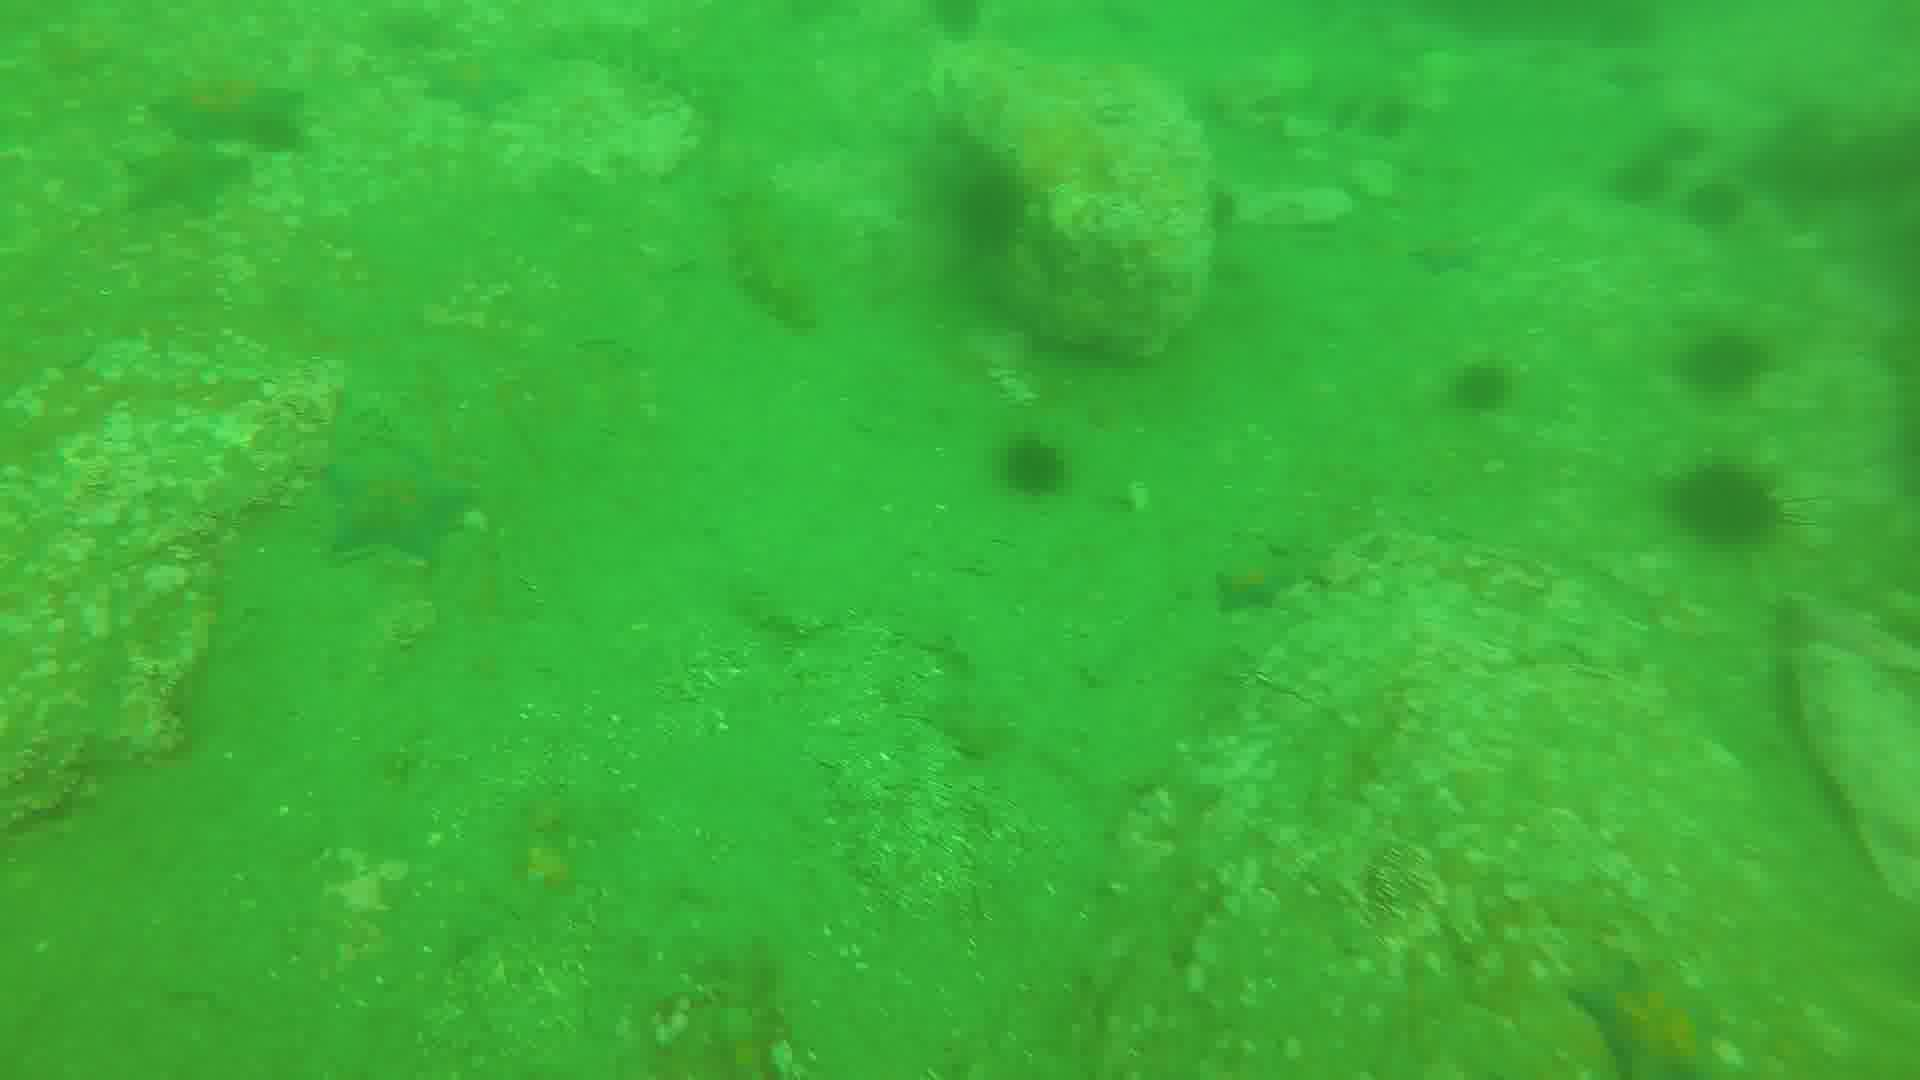echinus: (1665, 458, 1791, 555), (1677, 324, 1774, 396), (957, 166, 1038, 241), (997, 443, 1080, 491), (1455, 363, 1526, 417), (1688, 182, 1749, 233), (1614, 156, 1683, 200), (1199, 181, 1241, 233), (1658, 124, 1706, 164)
holothurian: (715, 208, 820, 331)
starfish: (1572, 959, 1727, 1080), (326, 438, 476, 562), (153, 74, 314, 164), (117, 142, 249, 220), (1218, 556, 1304, 616), (1408, 231, 1499, 284)
